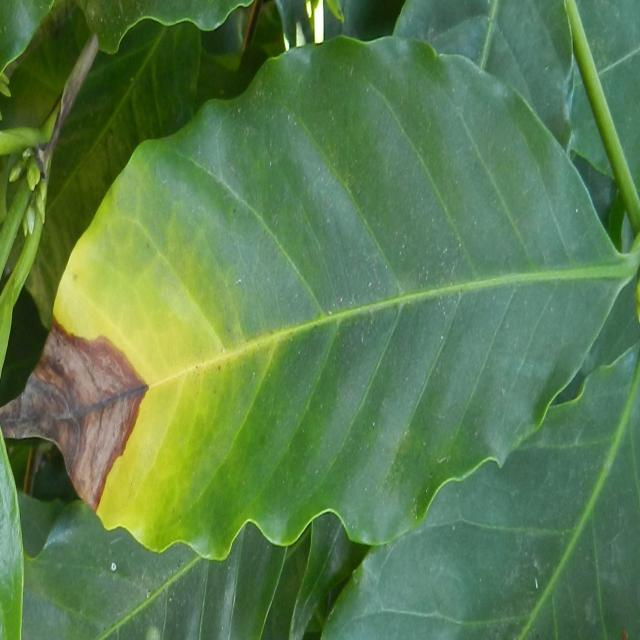Enfermedad-Mancha-de-hierro: (0, 37, 640, 562)
